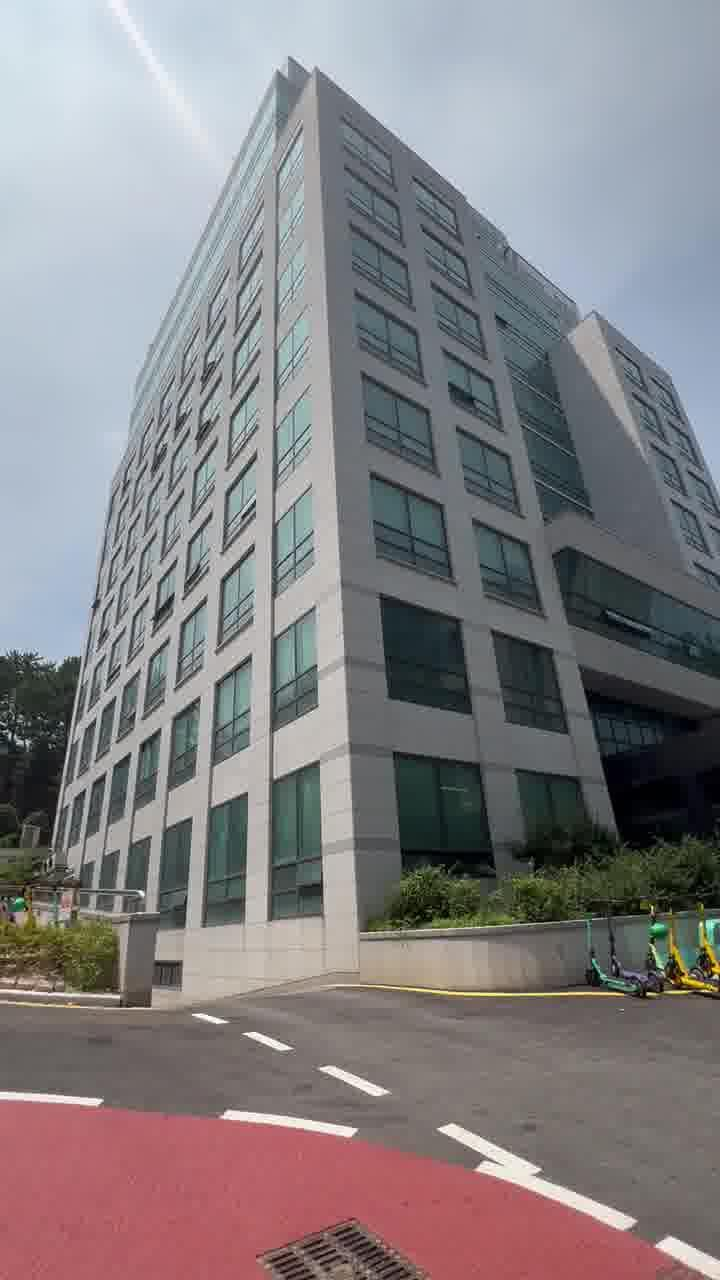building: (30, 24, 720, 920)
